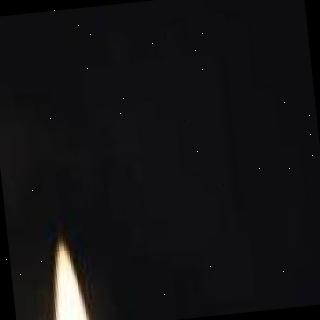fire: (43, 240, 97, 320)
